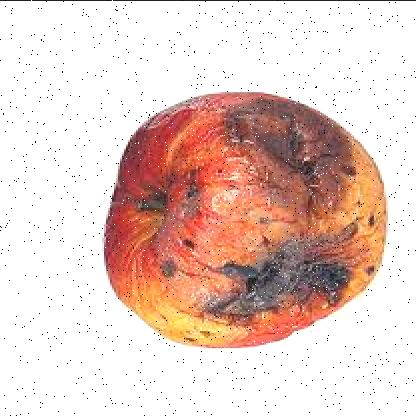damaged_apple: (104, 84, 382, 352)
